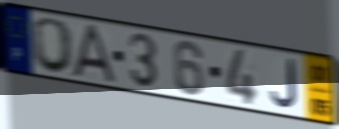3: (128, 32, 161, 91)
4: (224, 47, 260, 107)
6: (171, 39, 204, 97)
A: (71, 23, 117, 84)
J: (269, 57, 300, 111)
O: (31, 16, 77, 76)
